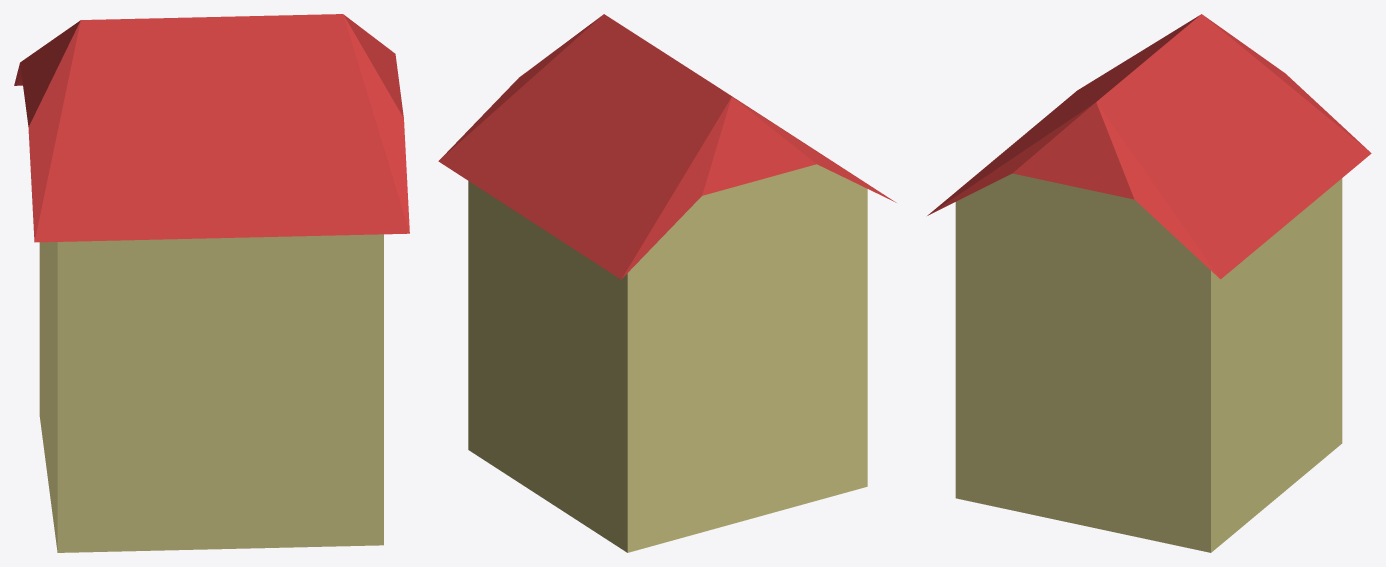
The picture shows the model from 3 angles, left to right: view 1: azimuth 30°, elevation 25°; view 2: azimuth 150°, elevation 25°; view 3: azimuth 270°, elevation 25°; orthographic projection. The views are drawn at different scales.
Visible parts, largest first — view 1: group_5, group_3, group_4; view 2: group_5, group_3, group_4; view 3: group_5, group_3, group_4.
Part boxes in pixels (x1,y1,x2,y2): group_5: (39, 234, 383, 552); group_3: (14, 14, 409, 242); group_4: (14, 44, 403, 239); group_5: (468, 164, 867, 552); group_3: (440, 14, 896, 278); group_4: (438, 78, 816, 279); group_5: (955, 173, 1342, 552); group_3: (927, 14, 1369, 278); group_4: (1009, 48, 1371, 279).
Bounding box in the file's own units: 15.41 × 15.35 × 15.69.
